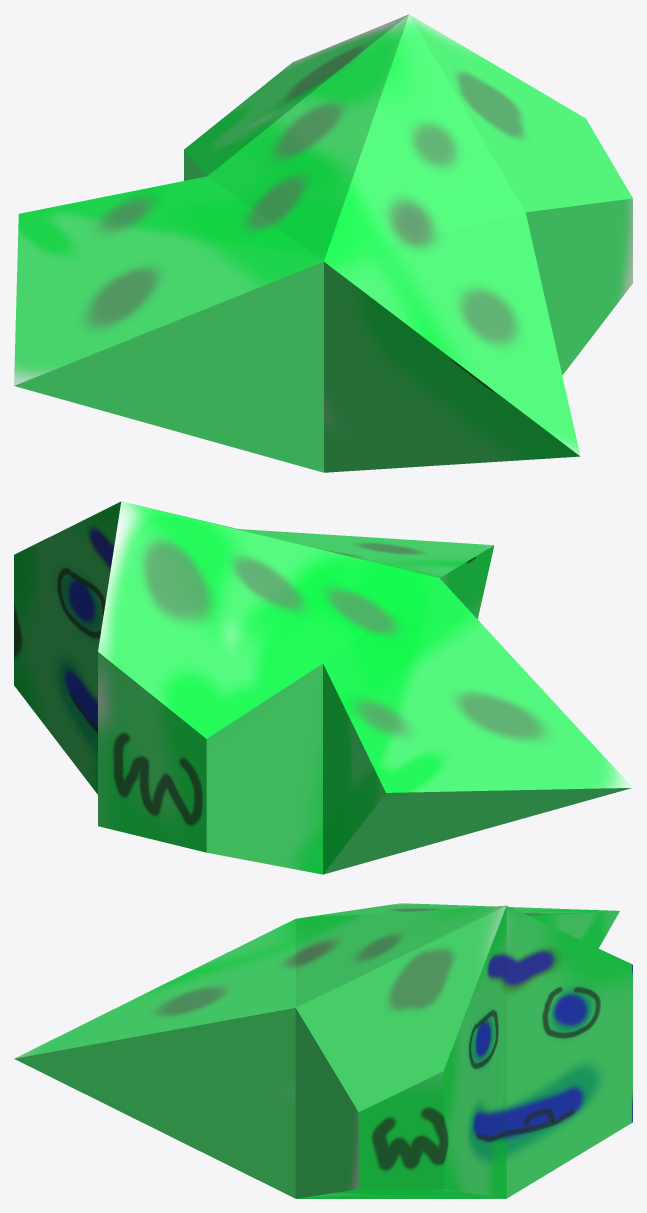
File: frog.fbx
The picture shows the model from 3 angles, top to bottom: view 1: azimuth 30°, elevation 25°; view 2: azimuth 150°, elevation 25°; view 3: azimuth 270°, elevation 25°; orthographic projection. The views are drawn at different scales.
Parts seen in each view (by area): view 1: Cube; view 2: Cube; view 3: Cube.
Part boxes in pixels (x1=…): Cube: x1=14, y1=14, x2=632, y2=472; Cube: x1=14, y1=501, x2=632, y2=874; Cube: x1=14, y1=903, x2=632, y2=1198.
Bounding box in the file's own units: 5.9 × 3.07 × 5.87.
1 material, 1 textured.
